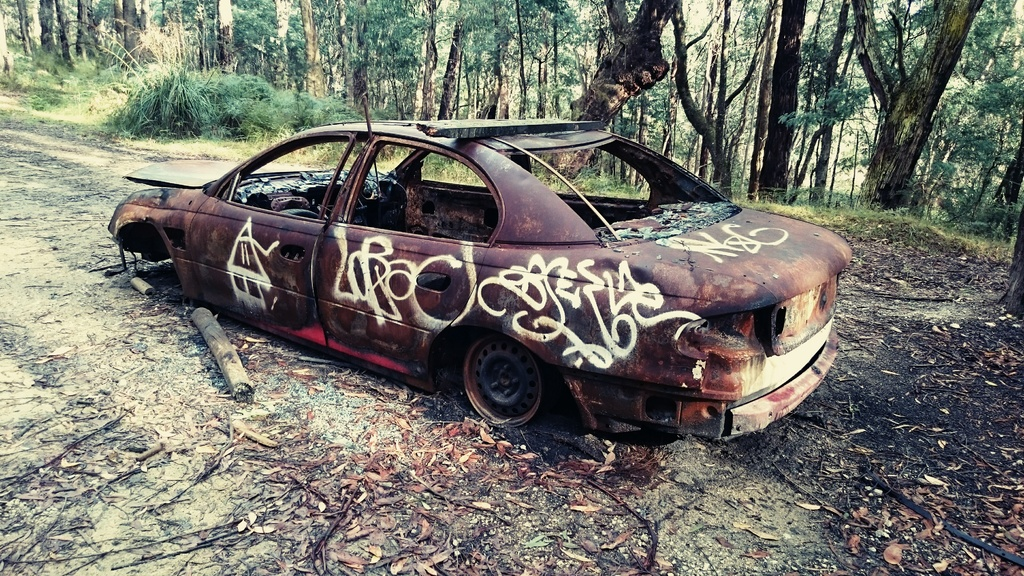Tree: (0, 0, 1024, 322)
